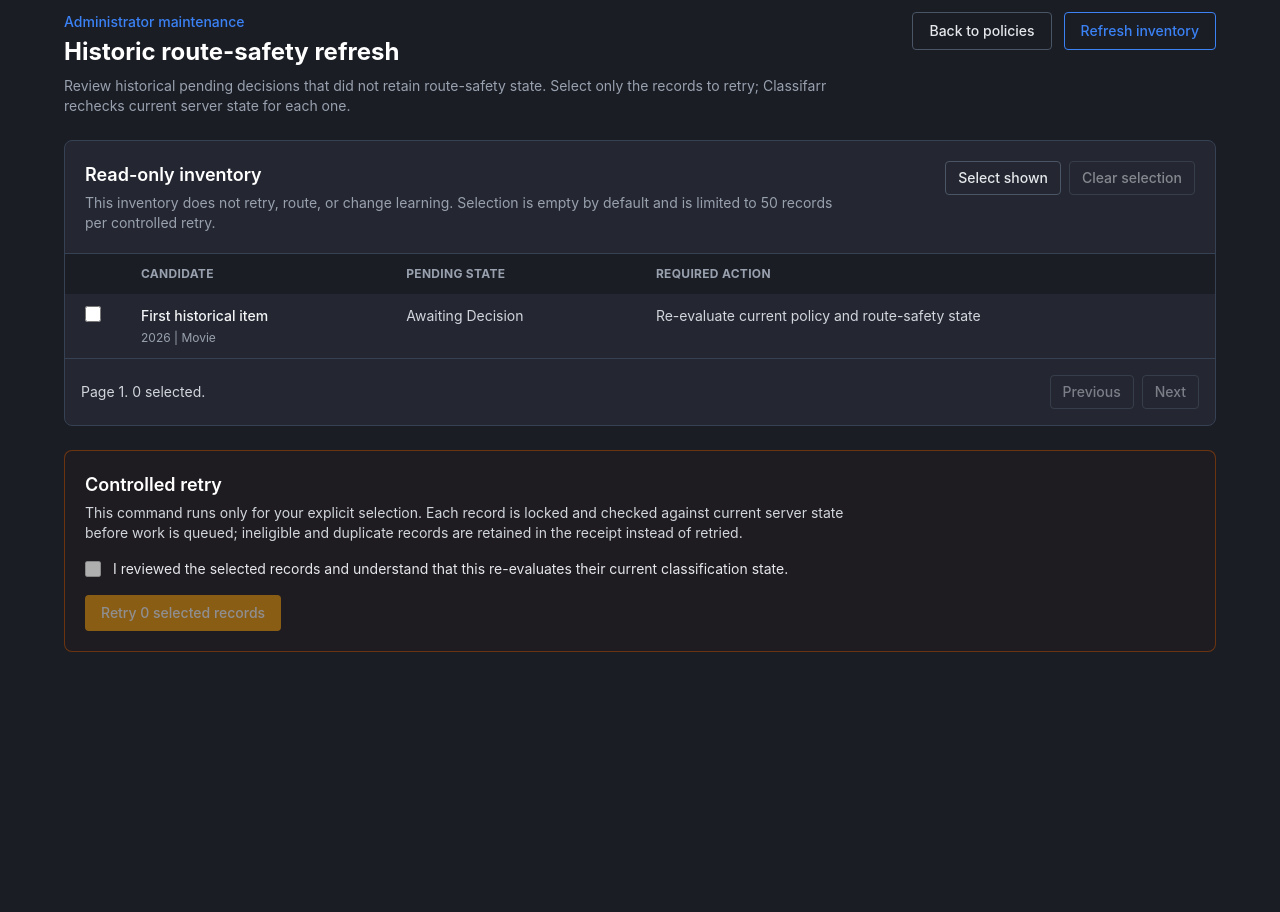
Test: PolicyHistoricRouteSafetyRefresh.vue › requires an explicit selection and acknowledgement before it starts a controlled retry
Check: the button "Retry 0 selected records" is disabled, box [85, 595, 281, 631]
Click the checkbox with id "historic-route-safety-select-41" at (93, 314), box [85, 306, 101, 322]
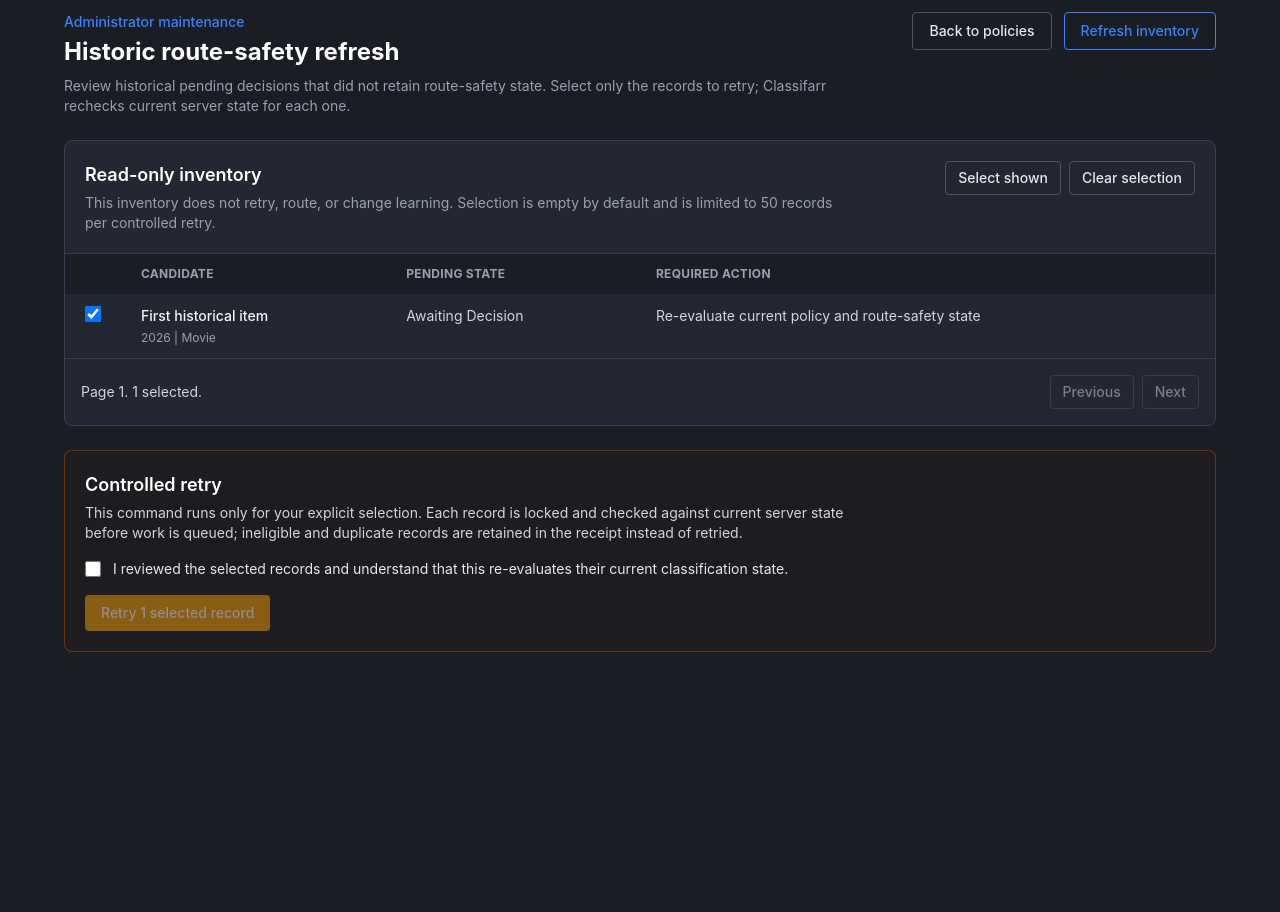
Check: the button "Retry 1 selected record" is disabled, box [85, 595, 270, 631]
Click the checkbox with id "historic-route-safety-execution-acknowledgement" at (93, 569), box [85, 561, 101, 577]
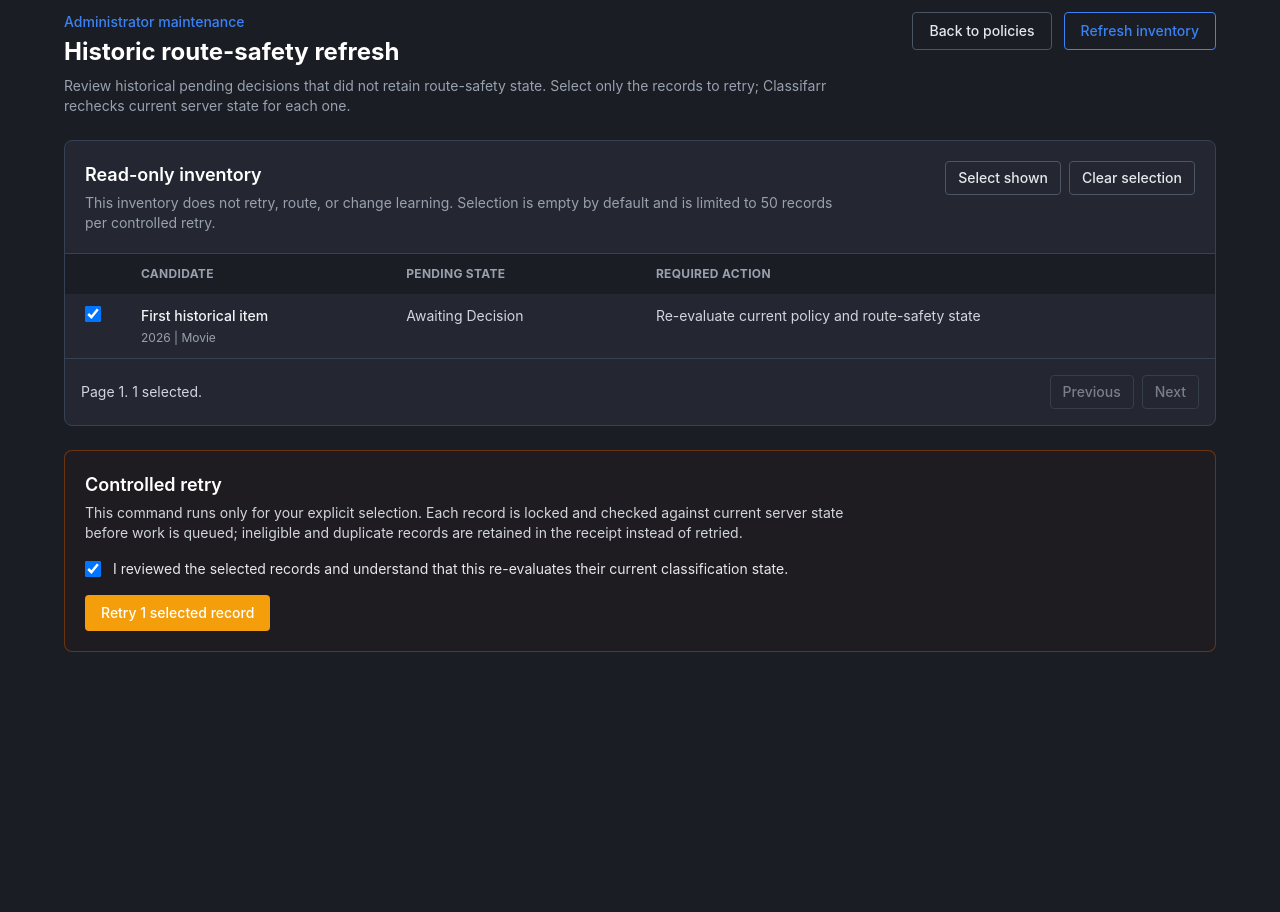
Check: the button "Retry 1 selected record" is enabled
Click the button "Retry 1 selected record" at (178, 613), box [85, 595, 270, 631]
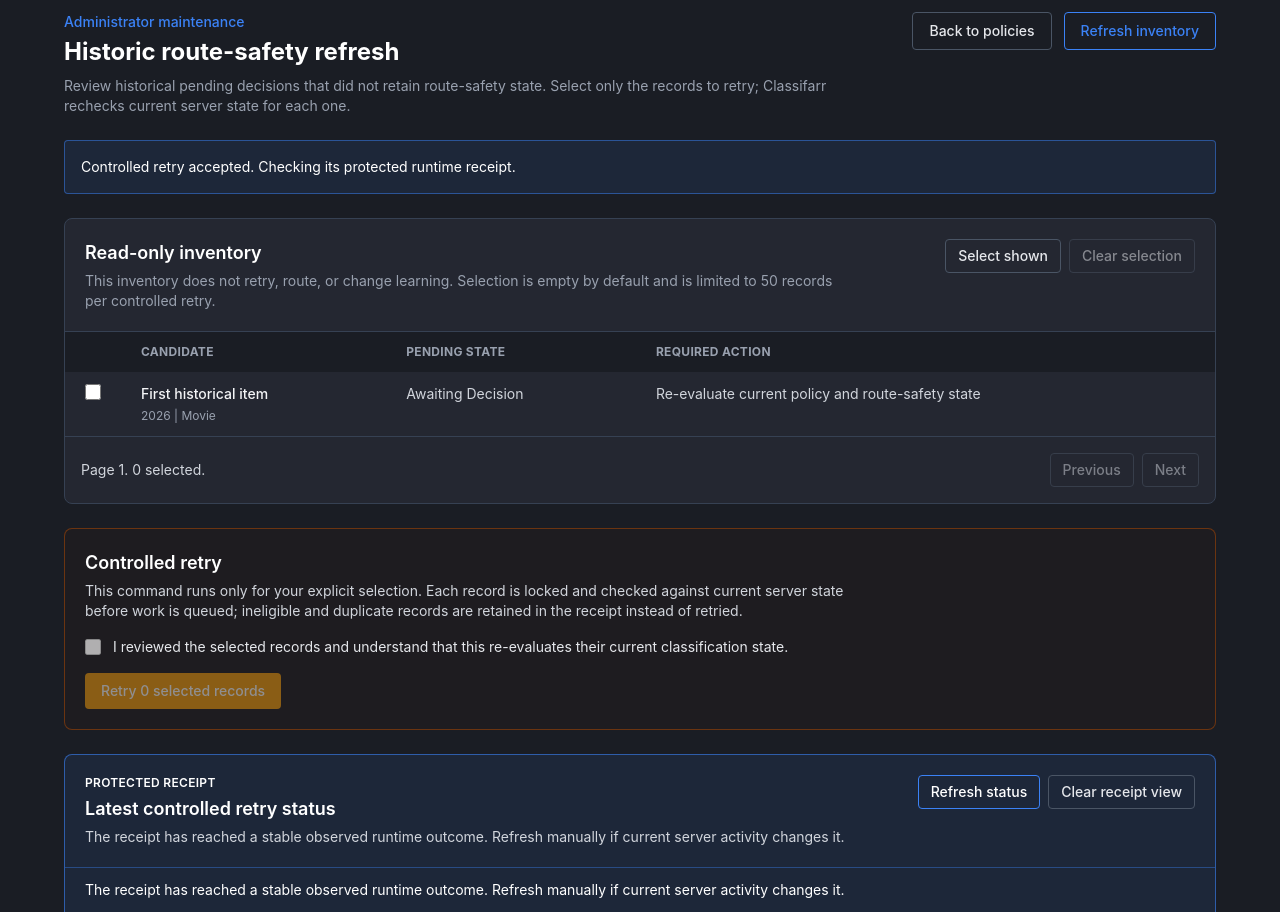
Check: the text "Protected receipt" is shown, box [85, 775, 216, 790]
